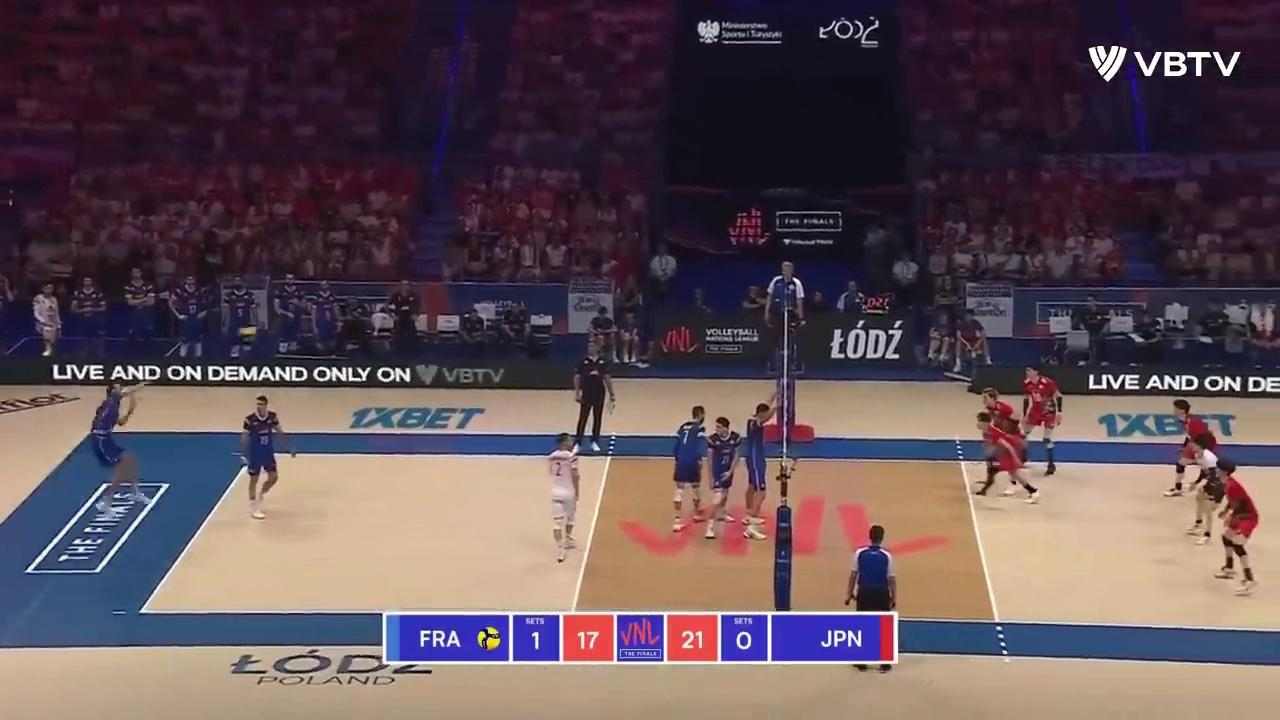ball: (239, 327, 257, 342)
